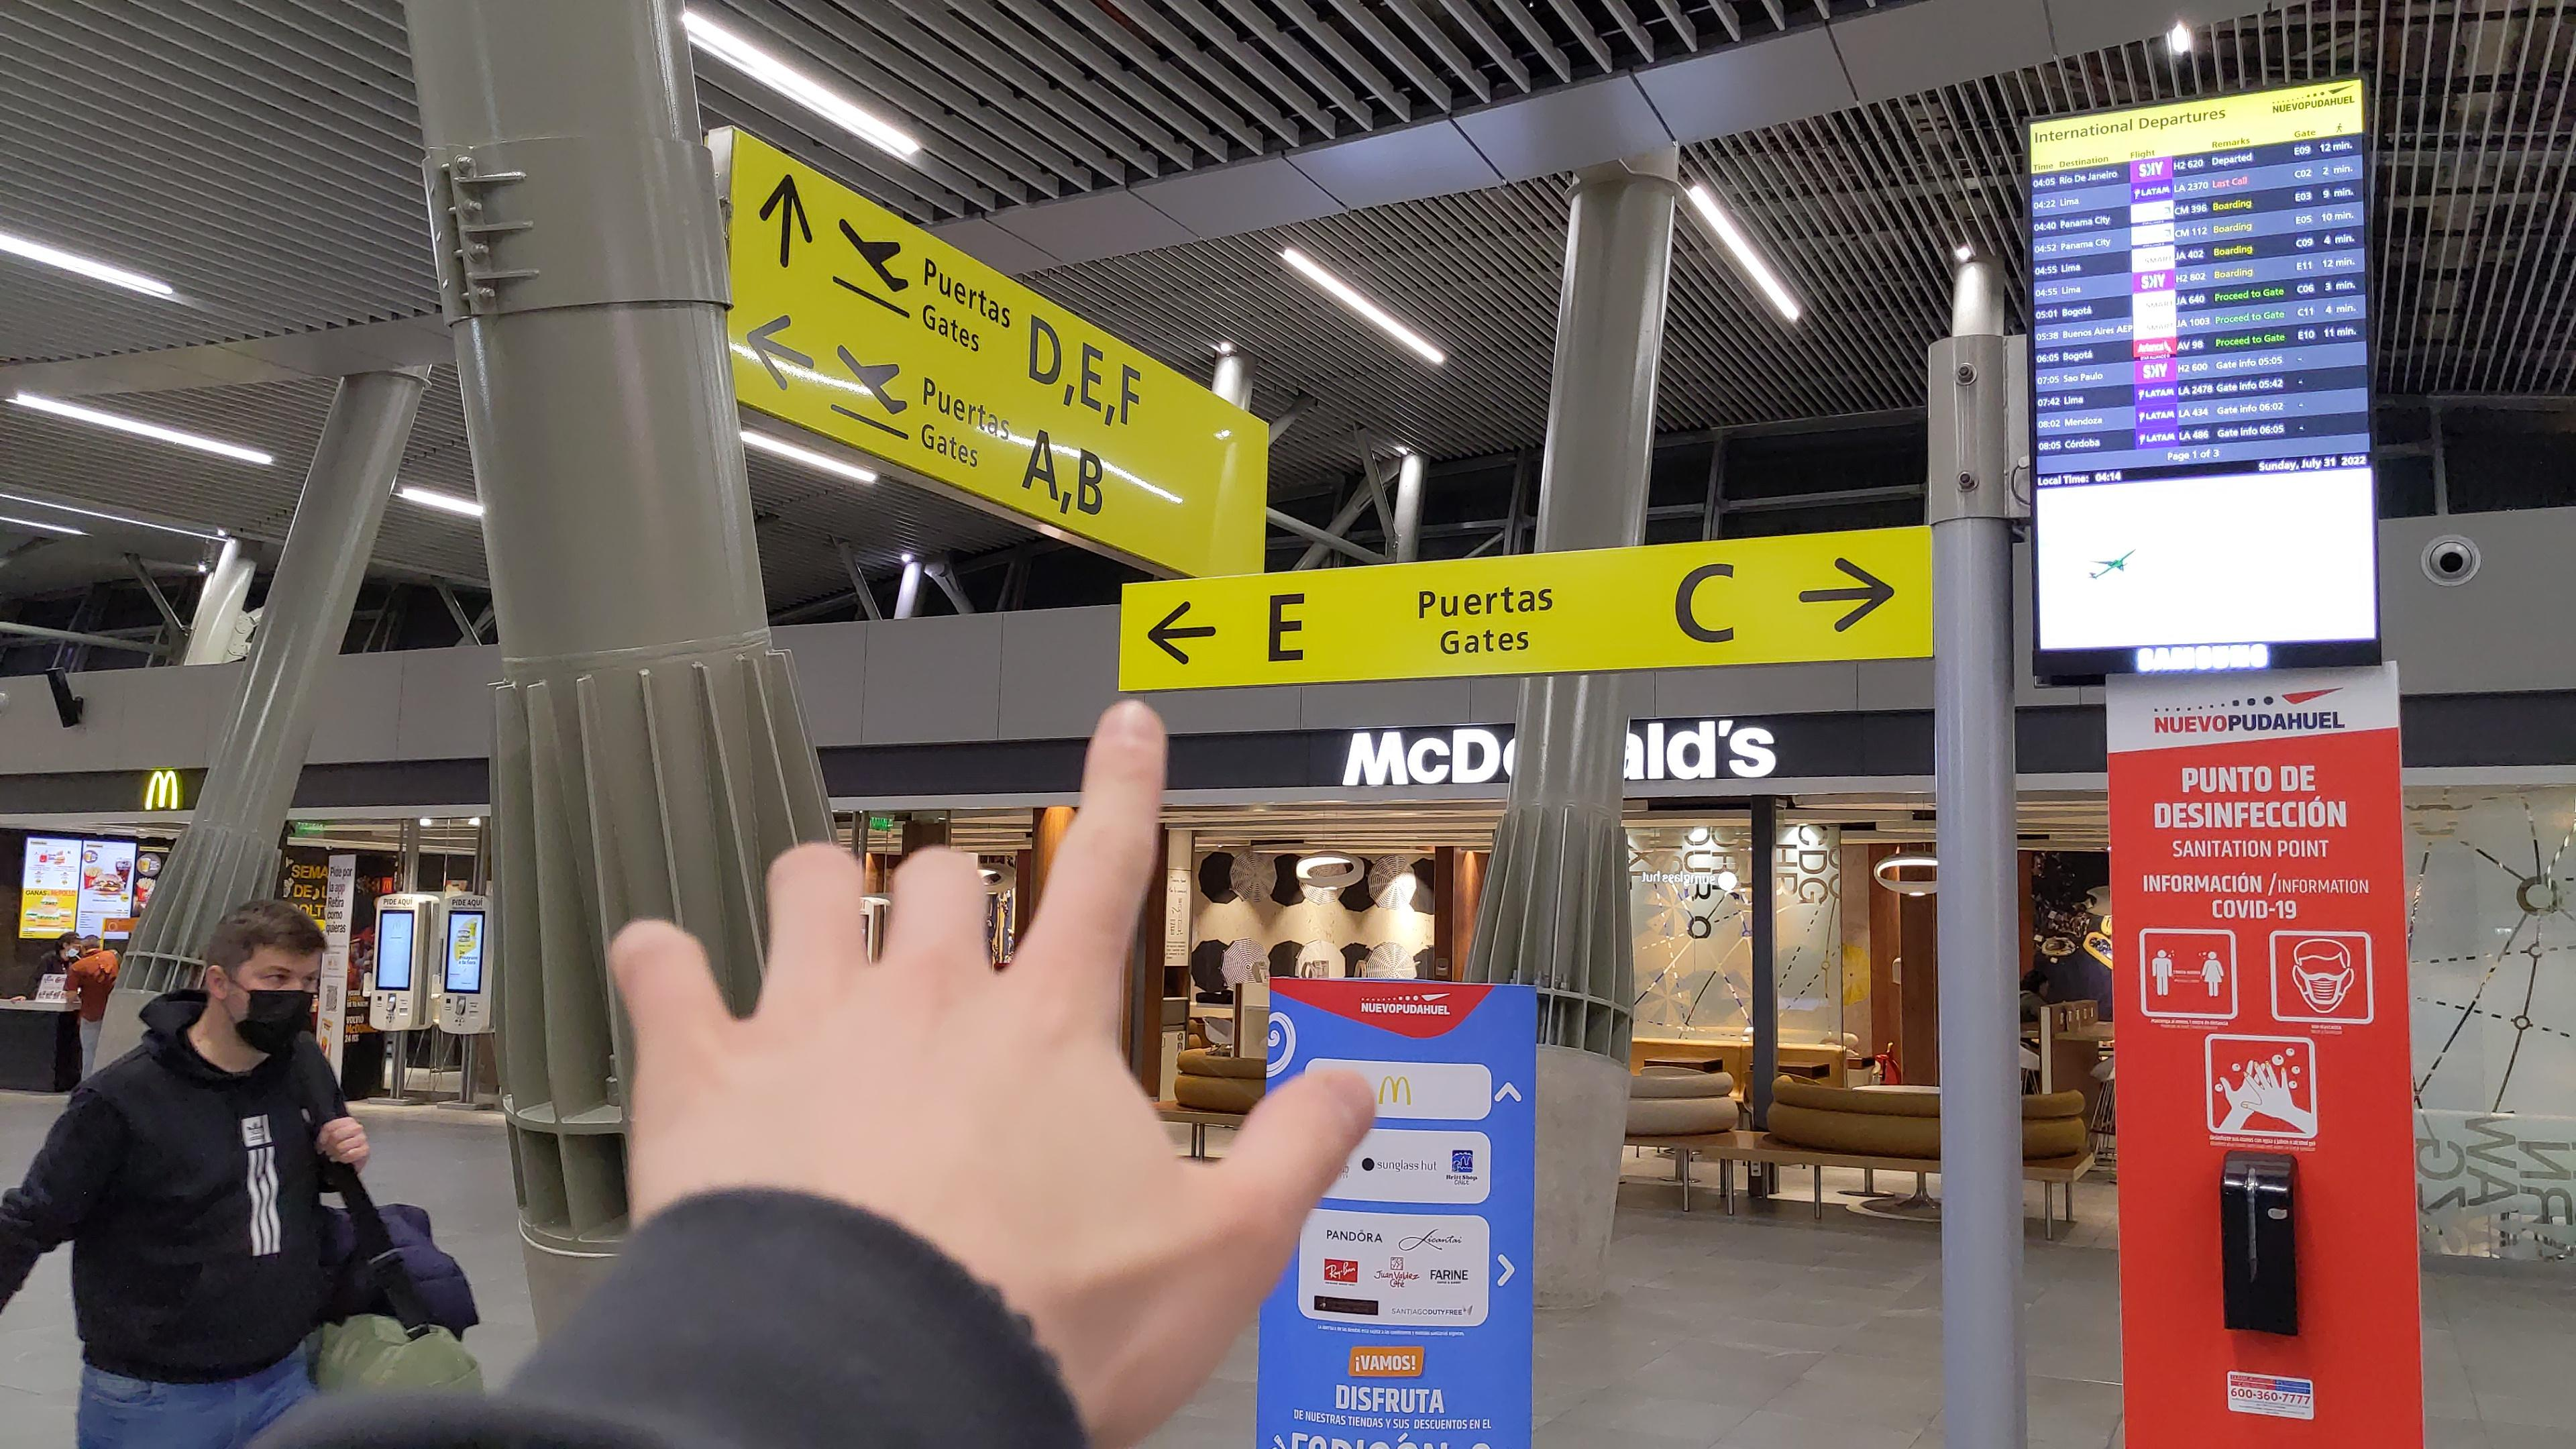airplane symbol: (832, 336, 913, 421), (835, 212, 908, 295)
thin left arrow: (741, 310, 819, 395)
thin right arrow: (1792, 552, 1900, 637)
thin up arrow: (755, 170, 817, 274)
